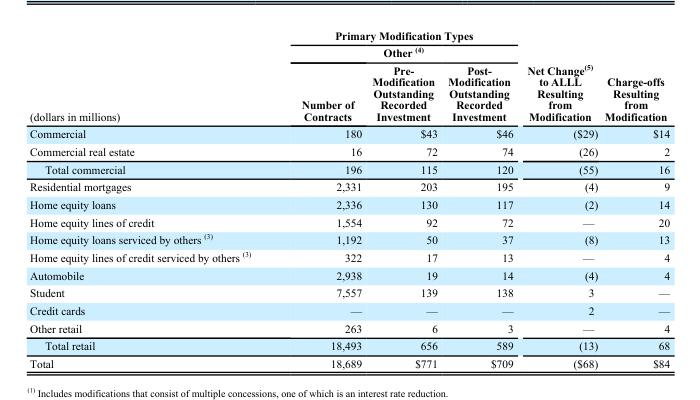table: (29, 28, 669, 369)
table column: (29, 28, 275, 369), (275, 28, 366, 369), (519, 28, 600, 369), (442, 28, 519, 369), (366, 28, 442, 369), (600, 28, 669, 369)
table column header: (29, 28, 669, 124)
table row: (29, 61, 669, 124), (29, 28, 669, 61), (29, 124, 669, 142), (29, 159, 669, 177), (29, 177, 669, 195), (29, 229, 669, 247), (29, 247, 669, 265), (29, 265, 669, 283), (29, 283, 669, 301), (29, 301, 669, 319), (29, 336, 669, 354), (29, 142, 669, 159), (29, 195, 669, 212), (29, 212, 669, 229), (29, 319, 669, 336), (29, 354, 669, 369)
table spanning cell: (29, 28, 275, 124), (275, 28, 519, 61), (519, 28, 600, 124), (600, 28, 669, 124)
